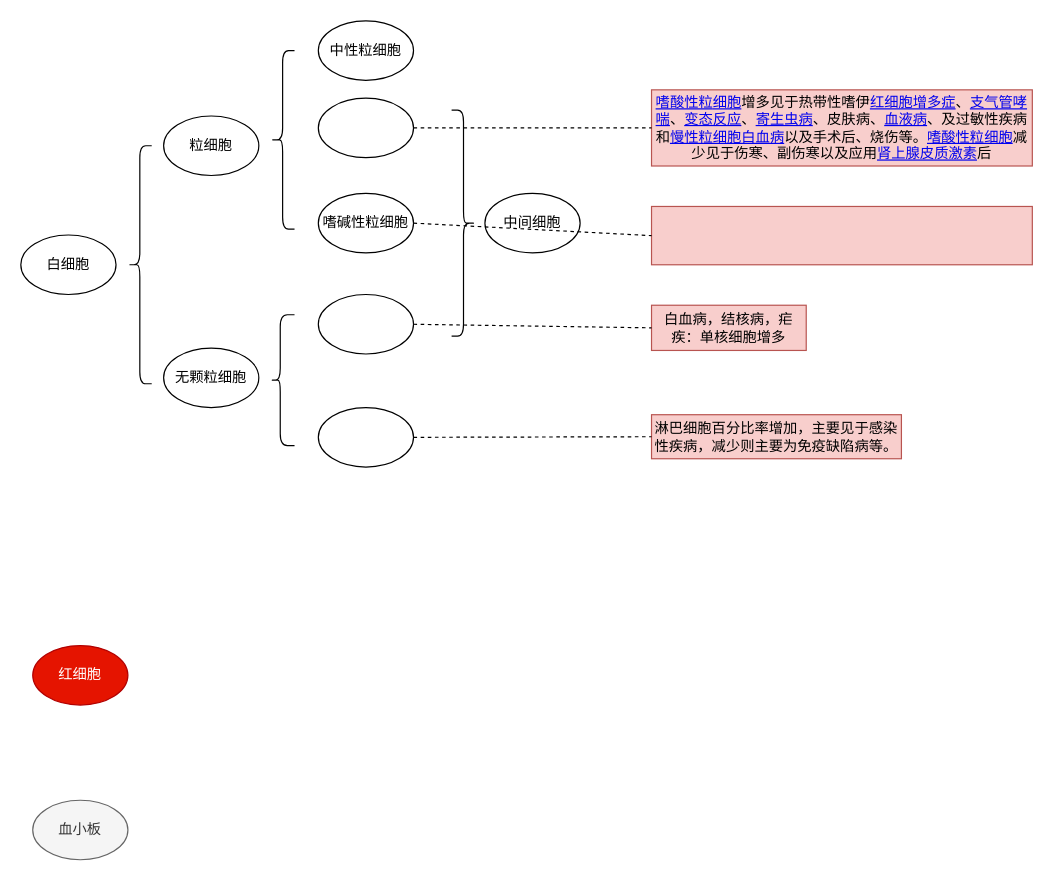
Some shapes in this 1053 by 881 pixel diagram are drawn without their labels. The centre of each missing label's shape, as x and y in pixels:
"单核细胞" belongs at (x=365, y=323).
"嗜碱性粒细胞 增多 较少见于慢性粒细胞白血病、 何杰金病 、癌转移、铅及 铋中毒 等。嗜碱性粒细胞减少无意义。" belongs at (x=841, y=235).
"嗜酸性粒细胞" belongs at (x=365, y=127).
"淋巴细胞" belongs at (x=365, y=436).
